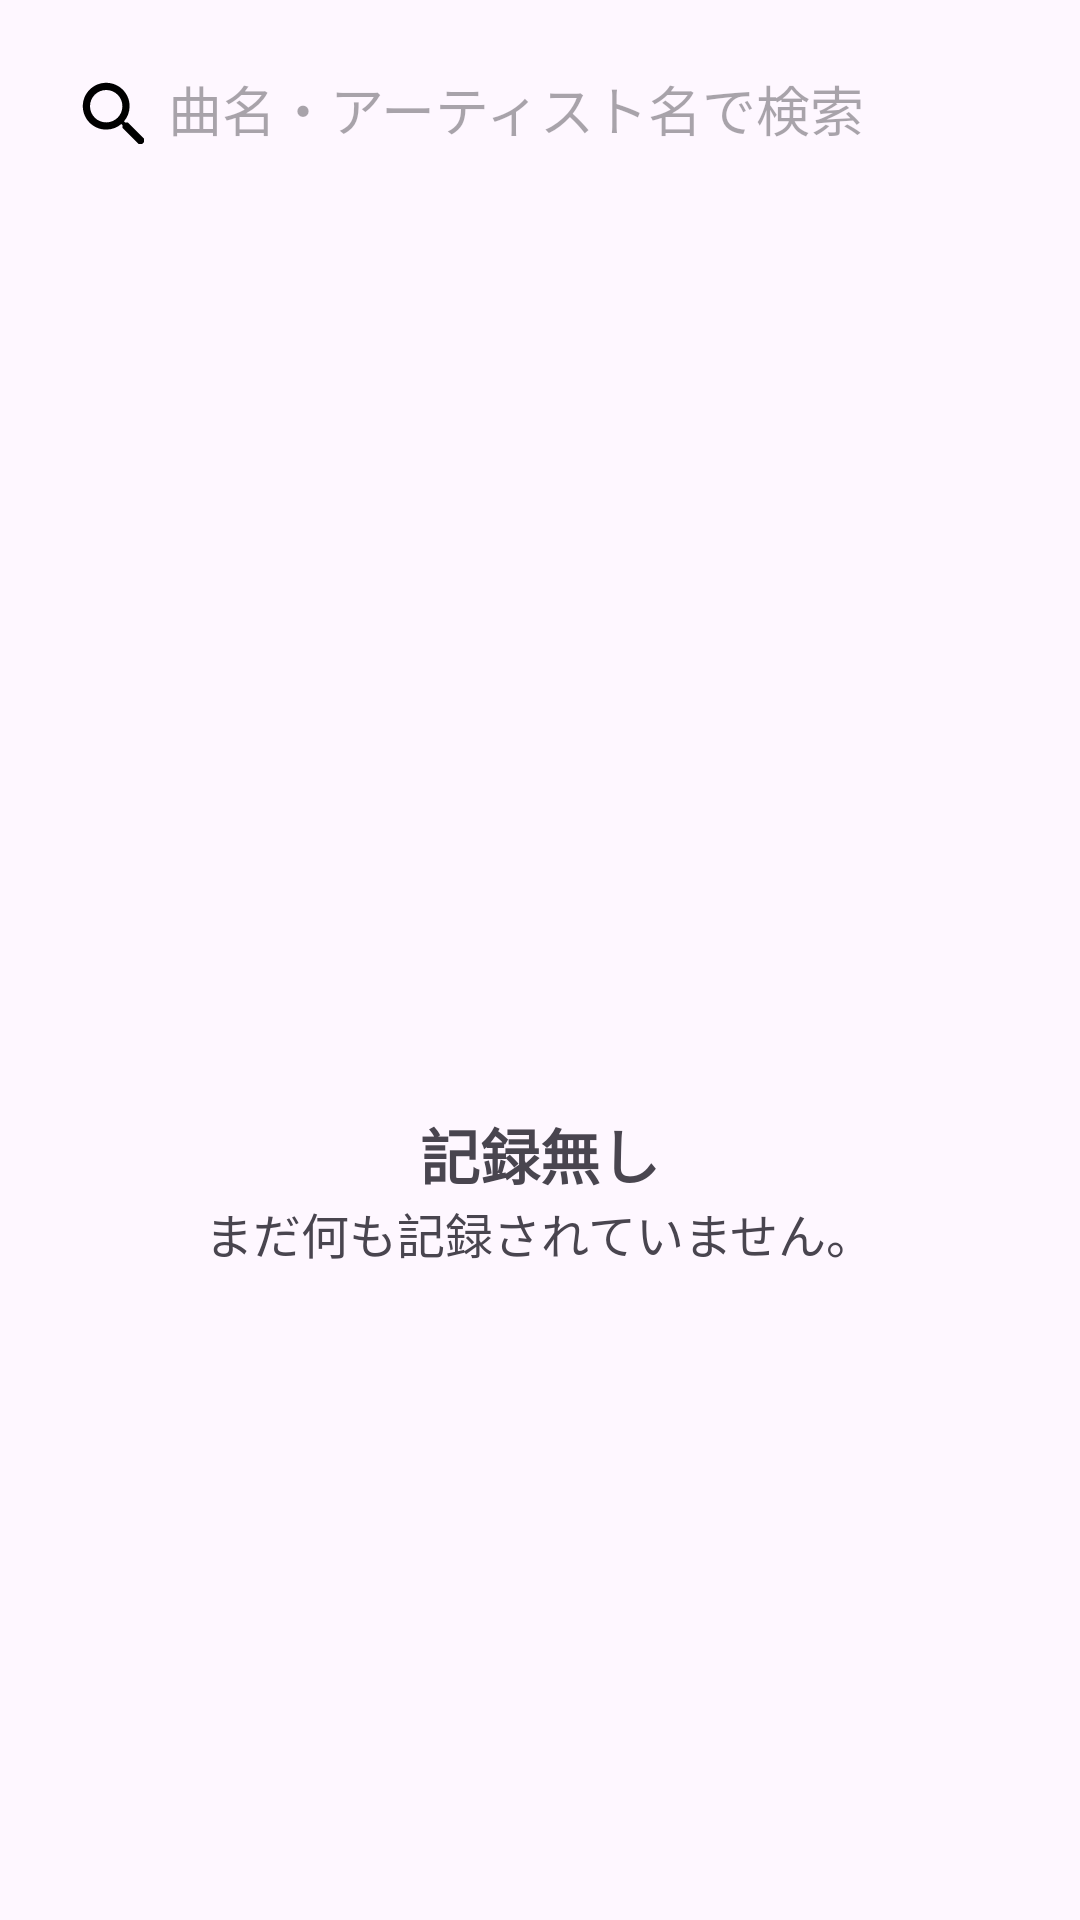

Where icons sit on this 1080 × 1920 app screen, as (x1=x1, y1=y1, x2=x2, y2=y2):
search: (x1=82, y1=82, x2=144, y2=144)
